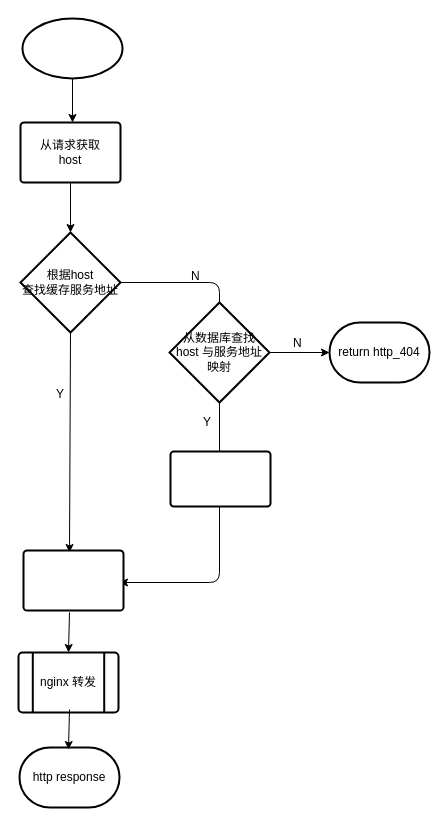
This 447x825 diagram has some shape labels left out. The centre of each missing label's shape, as x and y in pixels:
http 请求: the point at 72,48
更新到缓存中: the point at 220,478
设置 nginx uptream为服务地址: the point at 73,580
